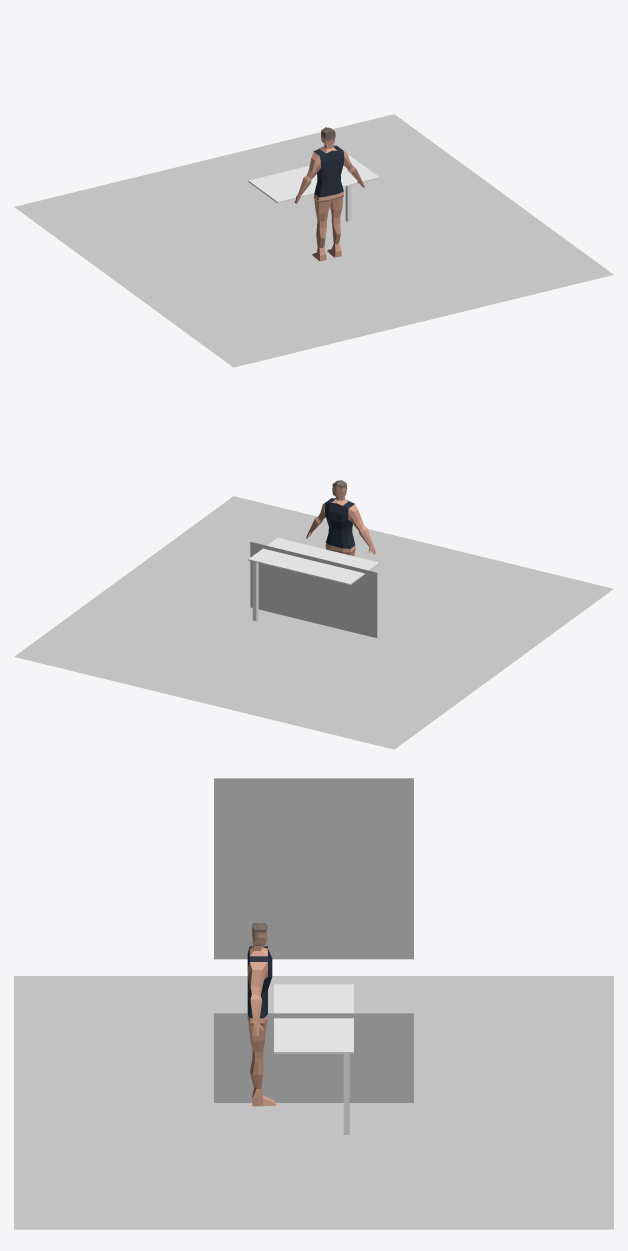
3 views of the same model, one above another, from view 1: azimuth 30°, elevation 25°; view 2: azimuth 150°, elevation 25°; view 3: azimuth 270°, elevation 25° (orthographic). The views are drawn at different scales.
Visible parts, largest first — view 1: Plane.002, Cube, Cube.002, Cube.004, Cube.005; view 2: Plane.002, Plane.001, Cube, Cube.004, Cube.002; view 3: Plane.002, Plane.003, Plane, Cube, Cube.002, Cube.005, Cube.004.
Part boxes in pixels (<box>): Plane.002: <box>14,114,613,367</box>; Cube: <box>248,156,379,203</box>; Cube.002: <box>294,127,364,261</box>; Cube.004: <box>313,145,344,197</box>; Cube.005: <box>313,192,343,247</box>; Plane.002: <box>14,496,613,749</box>; Plane.001: <box>250,542,377,637</box>; Cube: <box>248,538,379,585</box>; Cube.004: <box>325,498,355,548</box>; Cube.002: <box>306,480,376,554</box>; Plane.002: <box>14,976,613,1229</box>; Plane.003: <box>214,778,413,959</box>; Plane: <box>214,1013,413,1102</box>; Cube: <box>274,984,353,1053</box>; Cube.002: <box>247,923,276,1106</box>; Cube.005: <box>247,1015,267,1088</box>; Cube.004: <box>247,946,272,1018</box>.
Size of the model in its own units: 6 by 4.21 by 6.
